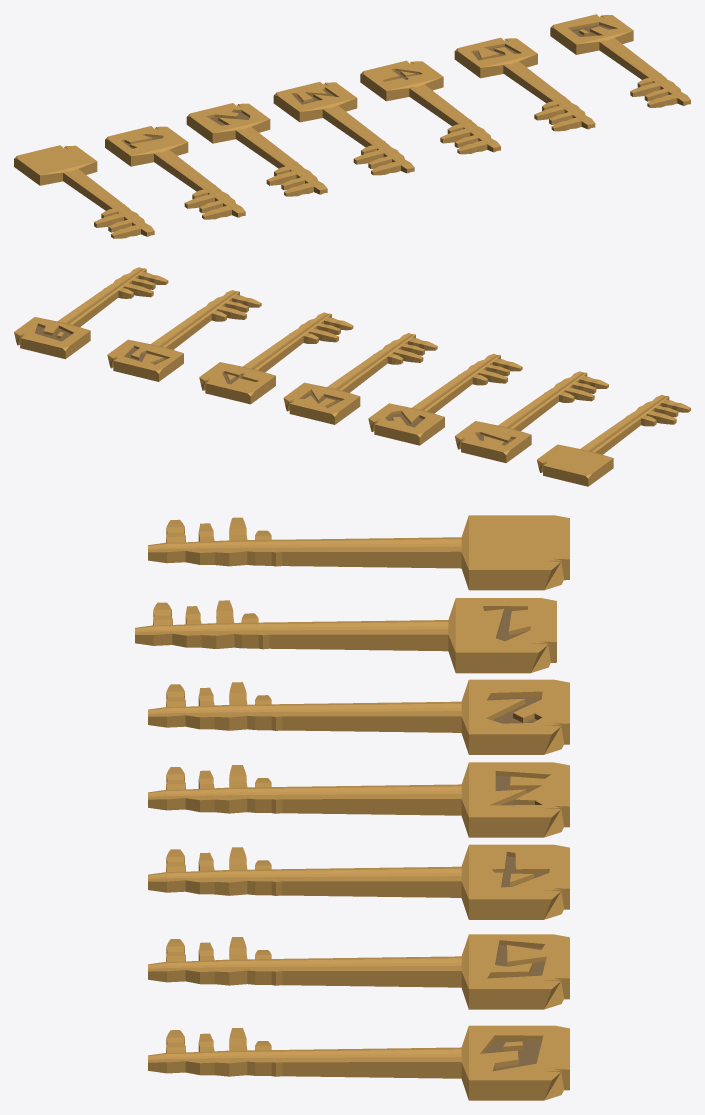
Rendered from CollectionOfKeys.fbx.
3 renders of one model, top to bottom at view 1: azimuth 30°, elevation 25°; view 2: azimuth 150°, elevation 25°; view 3: azimuth 270°, elevation 25°, orthographic. The views are drawn at different scales.
Parts seen in each view (by area): view 1: Key3, Key2, Key1, Key5, Key(Blank), Key4, Key6; view 2: Key(Blank), Key3, Key2, Key1, Key5, Key6, Key4; view 3: Key5, Key(Blank), Key2, Key3, Key4, Key6, Key1.
Boxes of the visible parts, box(x1,y1,x2,y2) form: Key3: box(273, 82, 414, 175); Key2: box(186, 103, 327, 196); Key1: box(105, 126, 245, 219); Key5: box(454, 37, 595, 131); Key(Blank): box(14, 145, 154, 238); Key4: box(360, 60, 500, 154); Key6: box(550, 14, 690, 107); Key(Blank): box(537, 395, 690, 486); Key3: box(283, 333, 437, 424); Key2: box(368, 353, 522, 445); Key1: box(455, 371, 608, 462); Key5: box(107, 290, 261, 381); Key6: box(14, 267, 168, 359); Key4: box(199, 312, 353, 404); Key5: box(148, 934, 569, 1009); Key(Blank): box(148, 515, 569, 590); Key2: box(148, 679, 569, 754); Key3: box(148, 762, 569, 837); Key4: box(148, 844, 569, 919); Key6: box(148, 1025, 569, 1100); Key1: box(135, 598, 556, 673).
Bounding box in the file's own units: 319 × 5.51 × 103.
